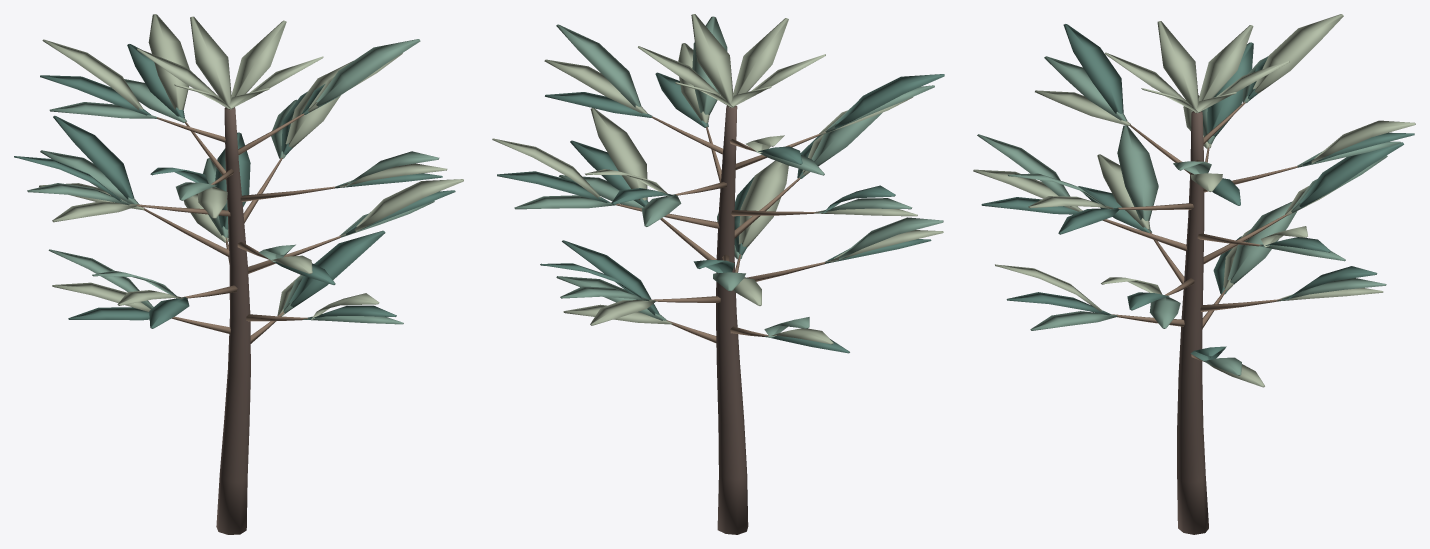
The model's file is tree_skyneedle.glb.
3 views of the same model, side by side, from view 1: azimuth 30°, elevation 25°; view 2: azimuth 150°, elevation 25°; view 3: azimuth 270°, elevation 25° (orthographic).
Visible parts, largest first — view 1: tree_skyneedle; view 2: tree_skyneedle; view 3: tree_skyneedle.
Part boxes in pixels (x1,y1,x2,y2): tree_skyneedle: (14,14,463,534); tree_skyneedle: (492,14,944,534); tree_skyneedle: (973,14,1415,534).
Bounding box in the file's own units: 11.38 × 13.5 × 11.49.
